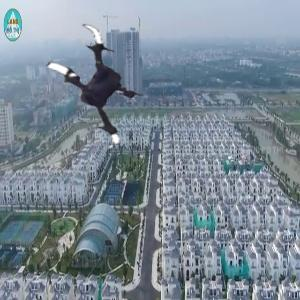drone: (26, 22, 155, 151)
